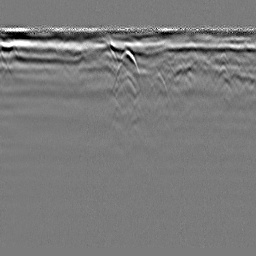cavity: (119, 48, 139, 75)
